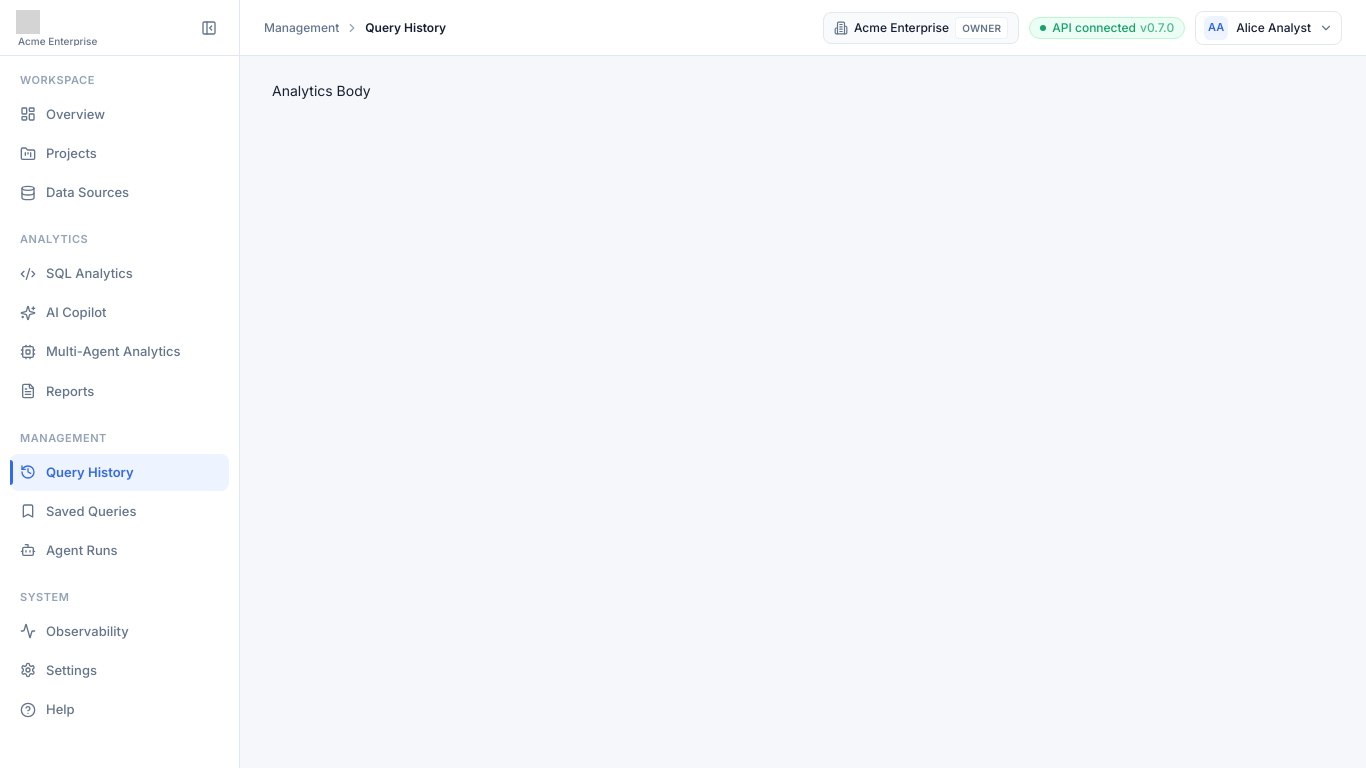
Test: Stage 1 Application Shell (Sidebar, TopBar, Mobile Drawer) › renders grouped sidebar sections, active states, breadcrumbs, and collapsible sidebar
This screenshot has width=1366, height=768.
Expected: the text "Workspace" is shown, [20, 73, 95, 87]
Expected: the text "Analytics" is shown, [20, 232, 88, 246]
Collapse & expand sidebar
Click the button named "Collapse sidebar".
click(209, 28)  # box [195, 14, 223, 42]
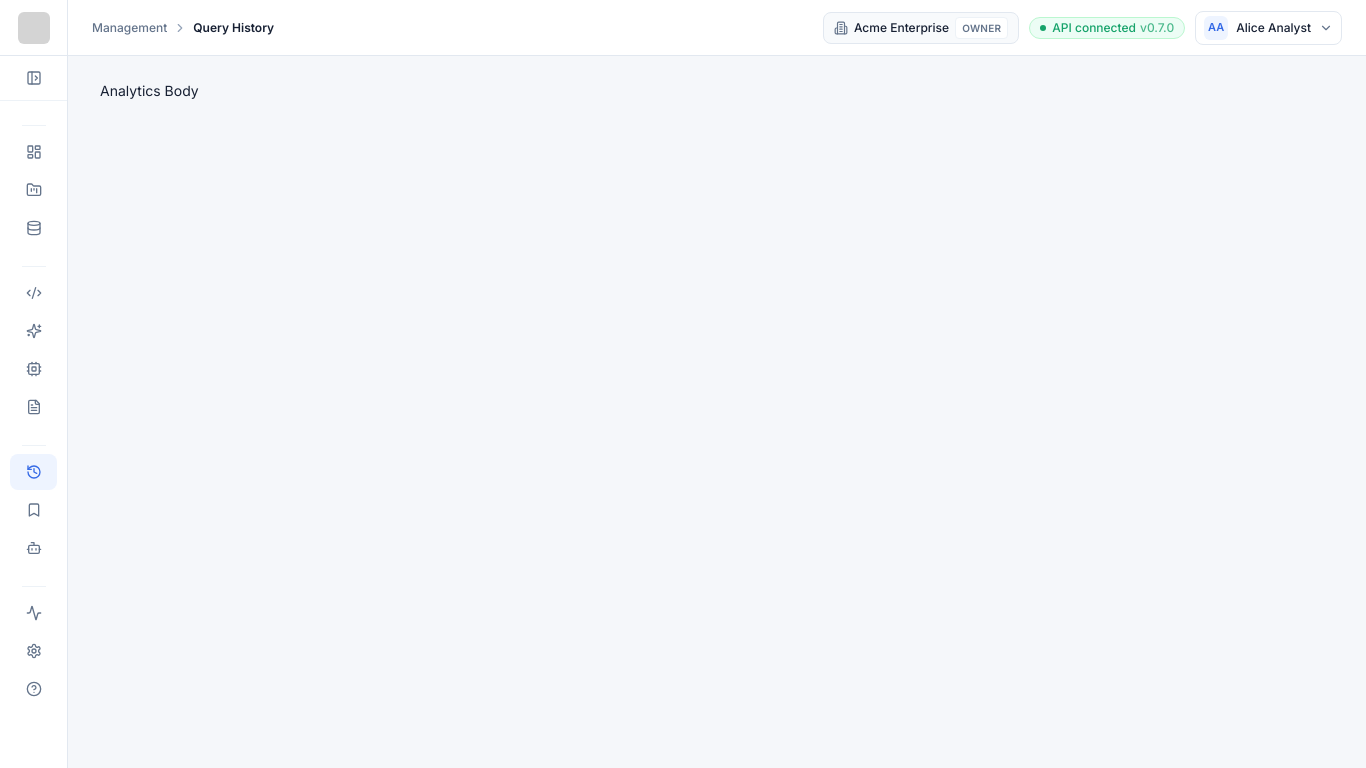
Expected: the button named "Expand sidebar" is shown, [20, 64, 48, 92]
Profile dropdown menu opens and offers Settings / Help / Sign out
Click the button with aria-label "Open account menu".
click(1269, 28)  # box [1195, 10, 1342, 44]
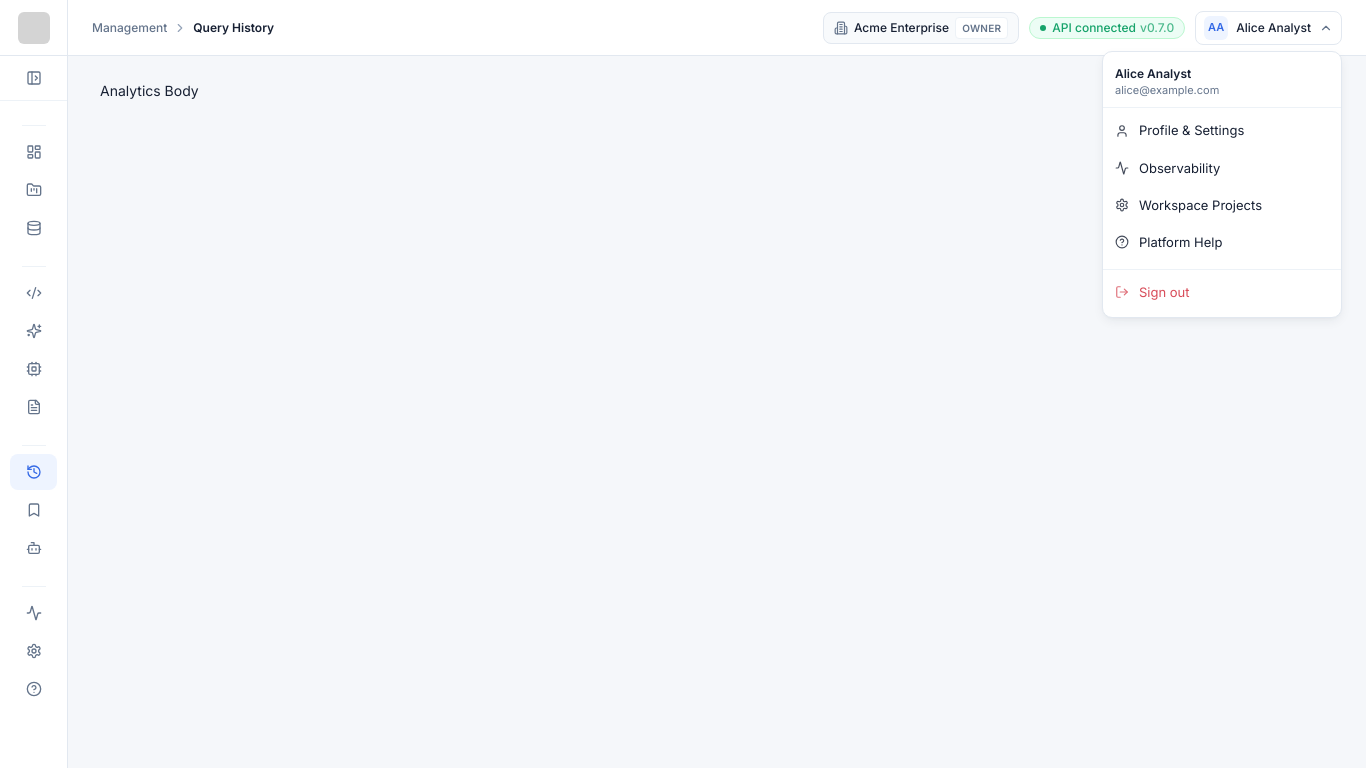
Expected: the menu item "Profile & Settings" is shown, [1103, 112, 1341, 150]
Expected: the menu item "Platform Help" is shown, [1103, 224, 1341, 261]
Expected: the menu item "Sign out" is shown, [1103, 274, 1341, 311]
